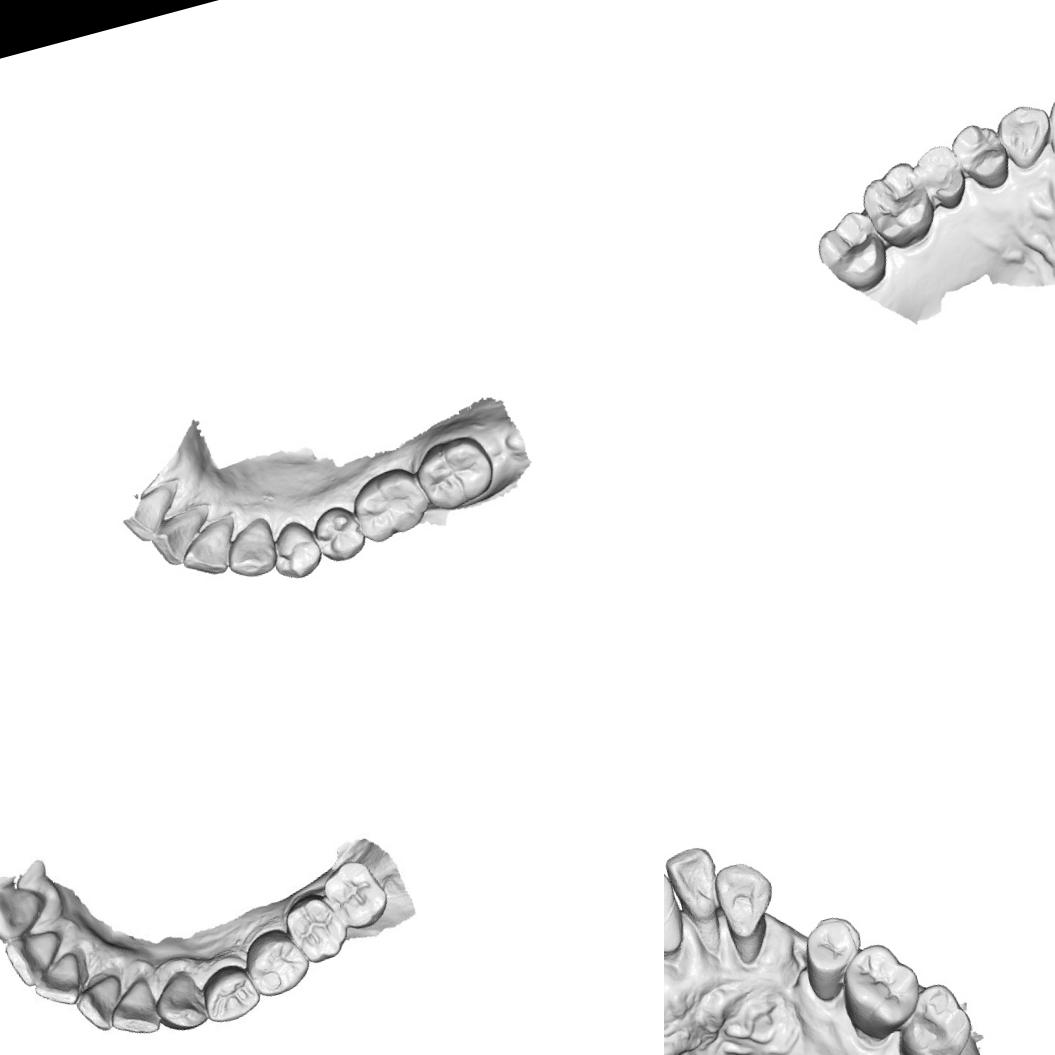canine: (706, 853, 784, 945), (988, 95, 1055, 175), (216, 514, 284, 584), (147, 967, 212, 1038), (0, 876, 52, 947)
incisor: (664, 837, 730, 924), (145, 502, 218, 571), (0, 924, 74, 992), (173, 514, 244, 582), (23, 948, 91, 1015), (68, 968, 130, 1036), (104, 976, 164, 1036), (664, 864, 682, 944), (1037, 87, 1055, 165)
molar: (828, 934, 931, 1044), (853, 154, 941, 256), (407, 427, 503, 518), (808, 204, 894, 301), (342, 460, 436, 548), (885, 975, 983, 1055), (278, 886, 353, 971), (316, 852, 392, 934)
premolar: (237, 922, 313, 1002), (794, 908, 868, 988), (947, 116, 1016, 197), (192, 957, 264, 1028), (906, 138, 968, 218), (261, 512, 327, 584), (307, 499, 369, 568)
